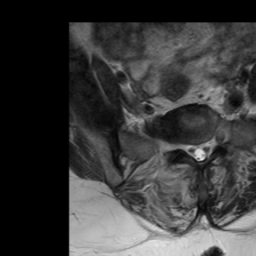CCS_normal: (195, 138, 203, 167)
LFS_normal: (209, 127, 218, 158)
LLS_normal: (203, 131, 210, 163)
RFS_normal: (179, 135, 187, 160)
RLS_normal: (187, 136, 195, 166)
